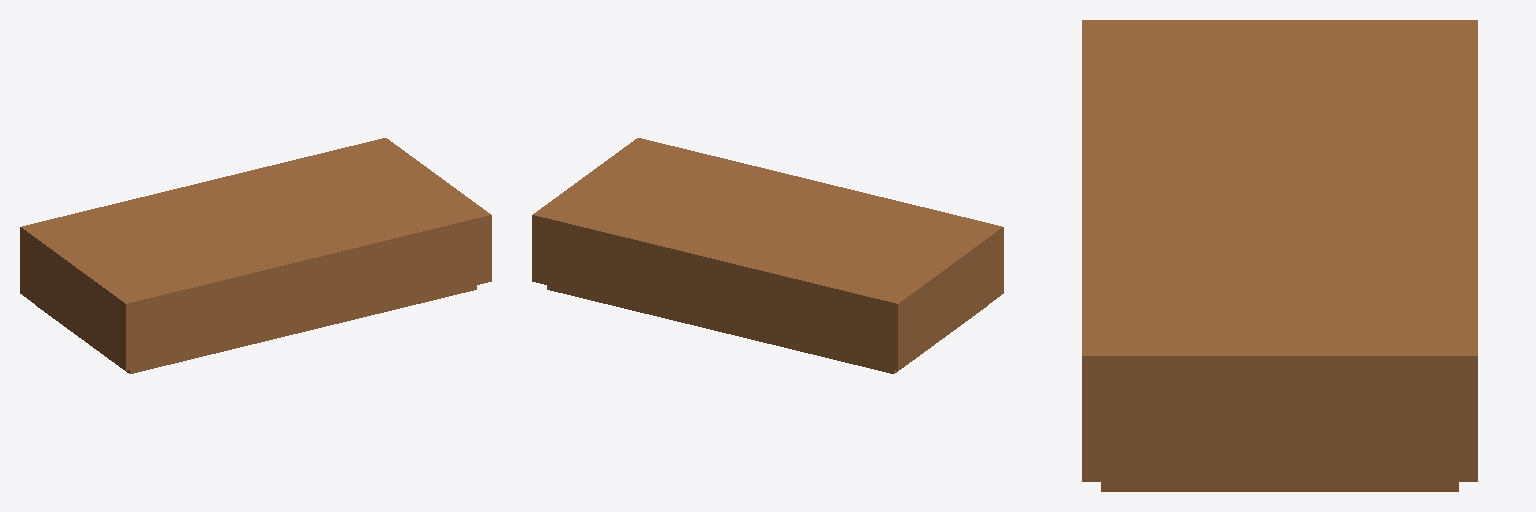
robot.urdf — 3069__medium_nougat:
<?xml version="1.0"?>
<robot name="3069__medium_nougat">
  <link name="3069__medium_nougat">
    <inertial>
      <origin xyz="0.000000 0.000000 -0.001307" rpy="0 0 0"/>
      <mass value="0.000319"/>
      <inertia ixx="2.243572880e-09" ixy="-0.000000000e+00" ixz="-0.000000000e+00" iyy="7.739995280e-09" iyz="-0.000000000e+00" izz="9.511276544e-09"/>
    </inertial>
    <visual>
      <geometry>
        <mesh filename="../meshes/visual/3069.obj" scale="1 1 1"/>
      </geometry>
      <material name="3069__medium_nougat_color">
        <color rgba="0.680 0.480 0.310 1.000"/>
      </material>
    </visual>
    <collision>
      <geometry>
        <mesh filename="../meshes/collision/3069_hull.obj" scale="1 1 1"/>
      </geometry>
    </collision>
  </link>
</robot>

--- What the picture shows (computed from the rendered views, not written in the file) ---
3 views of the same robot in one strip: view 1: azimuth 30°, elevation 25°; view 2: azimuth 150°, elevation 25°; view 3: azimuth 270°, elevation 25° (orthographic).
Robot: 3069__medium_nougat — 1 links, 0 joints (none); root link 3069__medium_nougat; default pose: all joints at 0.
Visible links, largest first — view 1: 3069__medium_nougat; view 2: 3069__medium_nougat; view 3: 3069__medium_nougat.
Boxes of the visible links, x1=… form: 3069__medium_nougat: x1=20, y1=138, x2=491, y2=373; 3069__medium_nougat: x1=532, y1=138, x2=1003, y2=373; 3069__medium_nougat: x1=1082, y1=20, x2=1477, y2=491.
Bounding box of the posed robot: 0.016 × 0.008 × 0.0032 m (x, y, z).
Meshes: 1 distinct files referenced, 1 mesh visuals loaded (1 OBJ).
